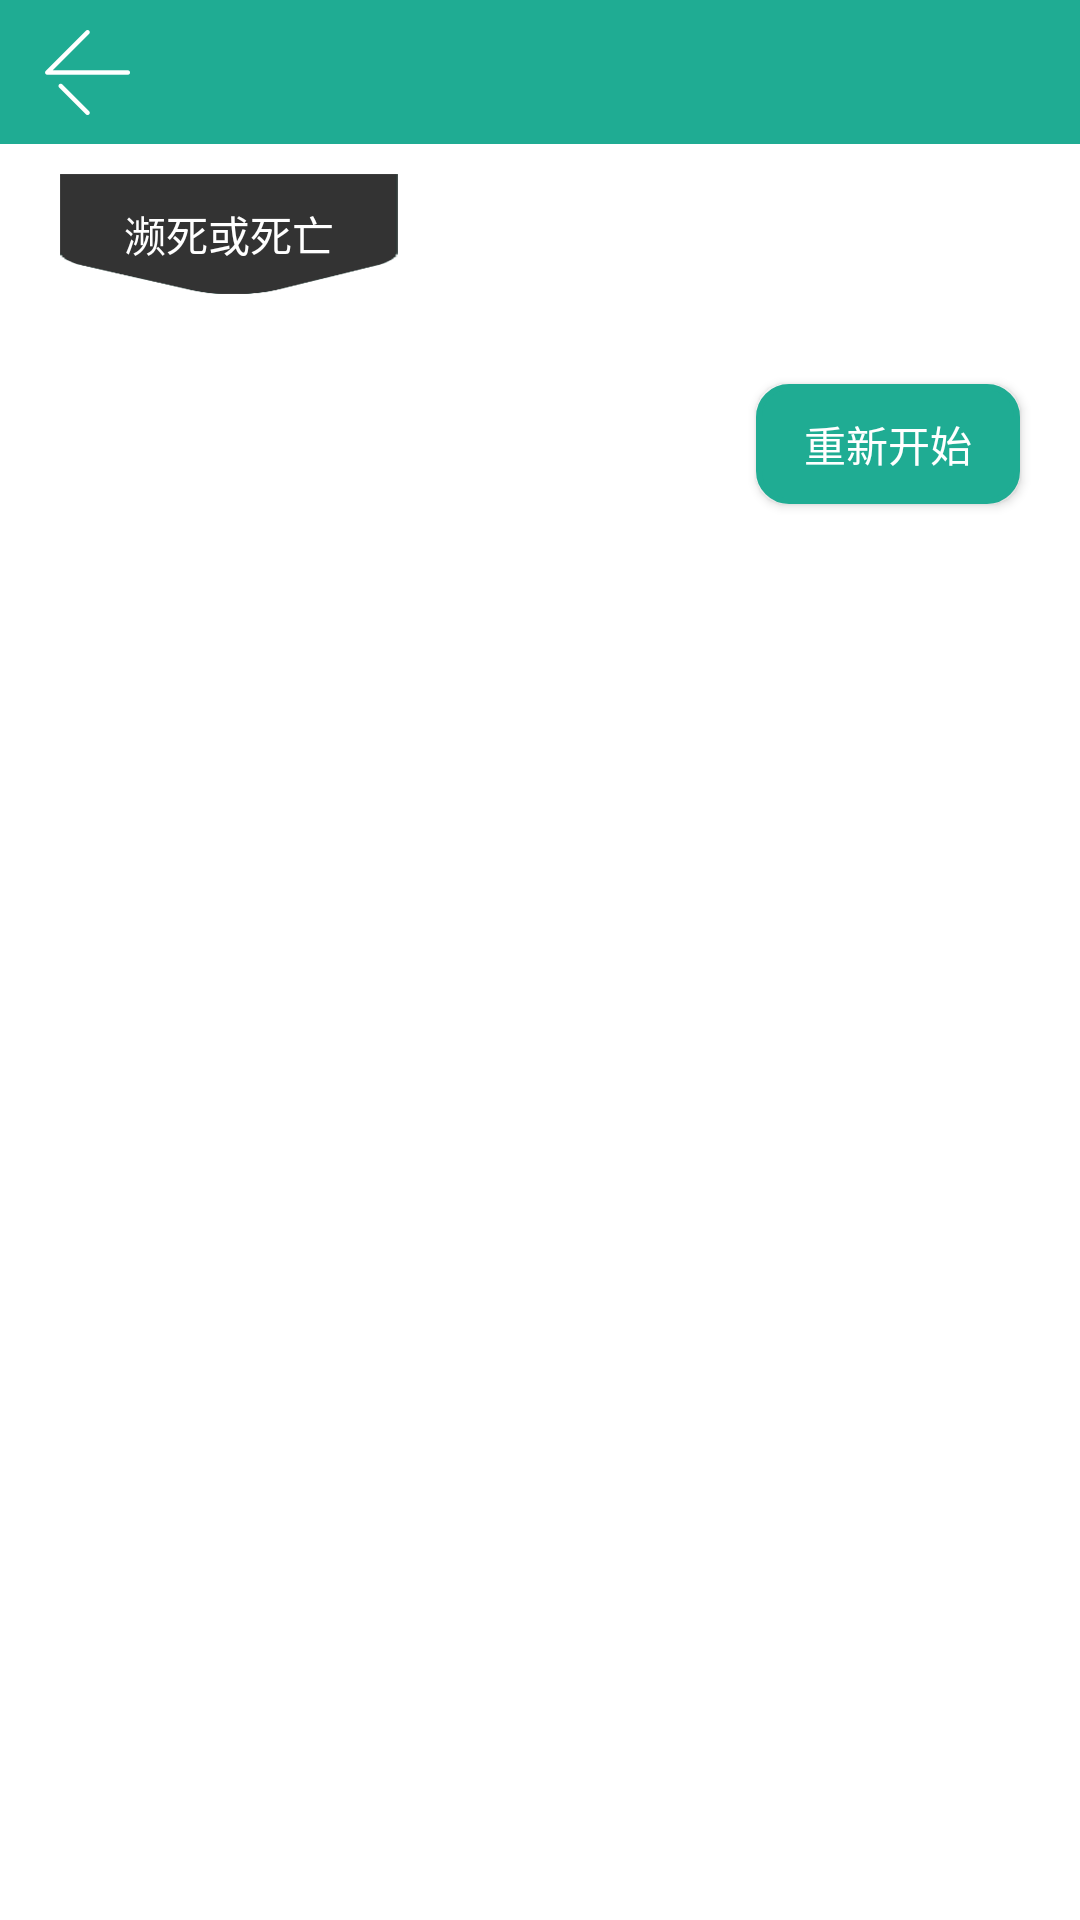

Icons on this 1080 × 1920 Android screen, each with its box as region(x1, y1, x2, y2):
back: region(45, 30, 130, 115)
